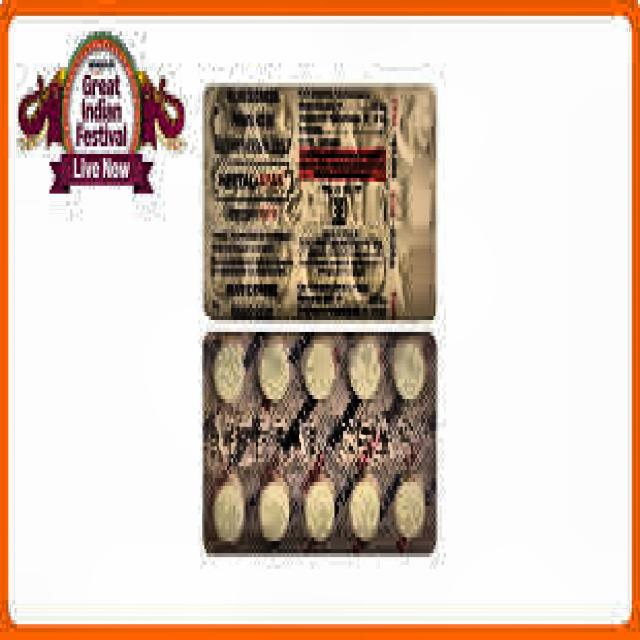Meftal: (202, 90, 440, 315), (202, 341, 434, 540)
